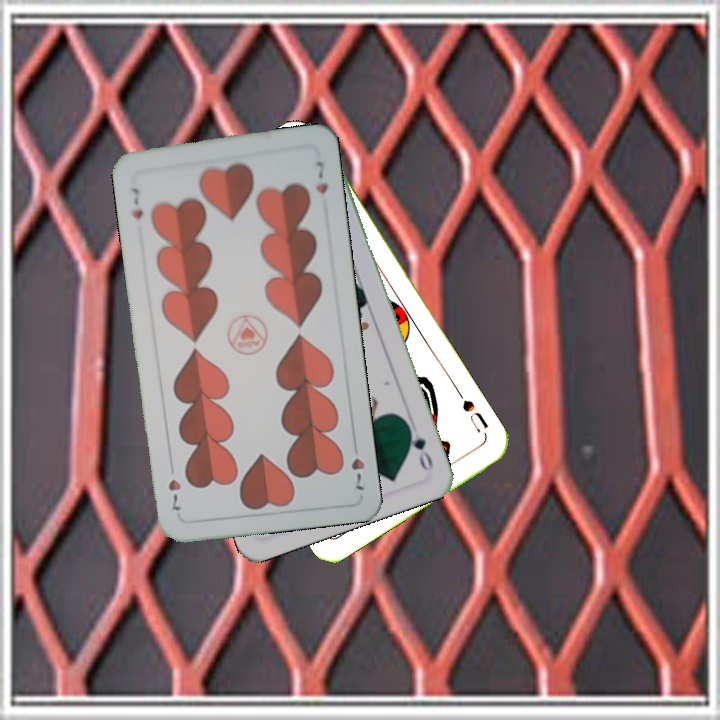GO: (402, 419, 436, 475)
H7: (347, 453, 368, 493), (127, 183, 146, 222)
SU: (452, 386, 491, 436)
